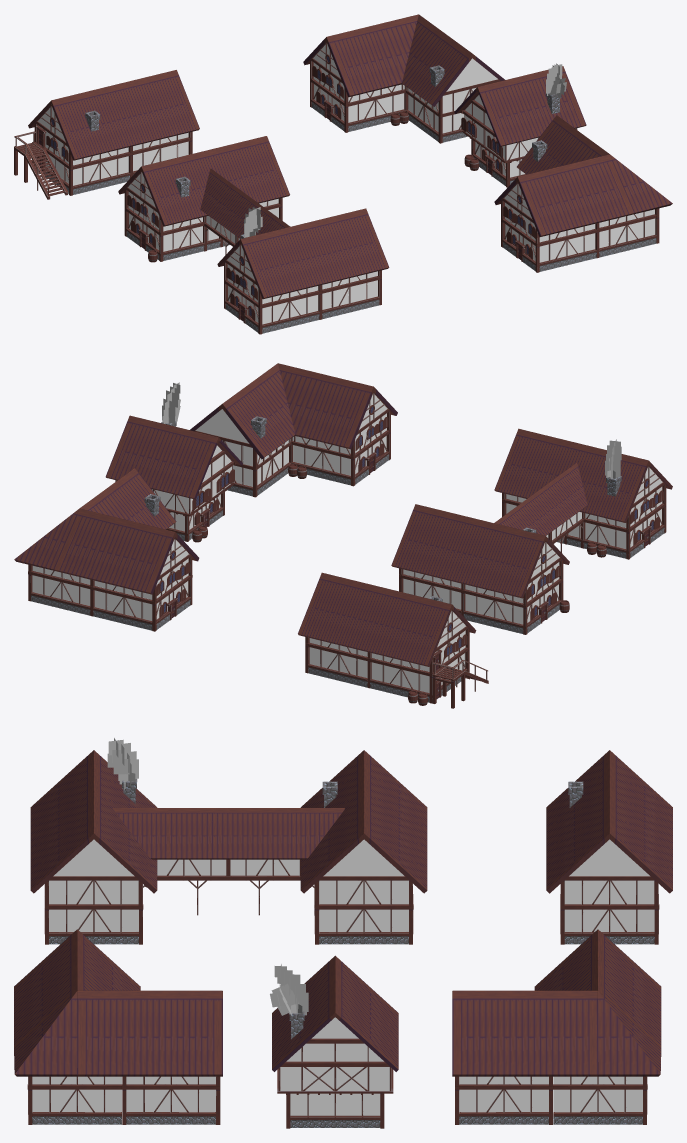
File: ProtoHouse1.fbx
3 renders of one model, top to bottom at view 1: azimuth 30°, elevation 25°; view 2: azimuth 150°, elevation 25°; view 3: azimuth 270°, elevation 25°, orthographic. The views are drawn at different scales.
Parts seen in each view (by area): view 1: h3, h5, h2, h4, h1, Smoke; view 2: h3, h2, h5, h4, h1, Smoke; view 3: h3, h2, h5, h4, h1, Smoke.
Part boxes in pixels (x1,y1,x2,y2): h3: [118, 136, 389, 334]; h5: [494, 115, 672, 272]; h2: [303, 14, 504, 143]; h4: [14, 70, 199, 199]; h1: [454, 66, 586, 187]; Smoke: [244, 63, 566, 237]; h3: [391, 428, 672, 634]; h2: [14, 468, 199, 631]; h5: [190, 363, 397, 497]; h4: [298, 572, 488, 708]; h1: [105, 415, 242, 542]; Smoke: [162, 382, 621, 478]; h3: [30, 750, 427, 944]; h2: [452, 929, 661, 1124]; h5: [14, 929, 222, 1124]; h4: [546, 750, 672, 944]; h1: [272, 955, 398, 1128]; Smoke: [107, 738, 308, 1018].
Bounding box in the file's own units: 3171 × 796 × 3086.
